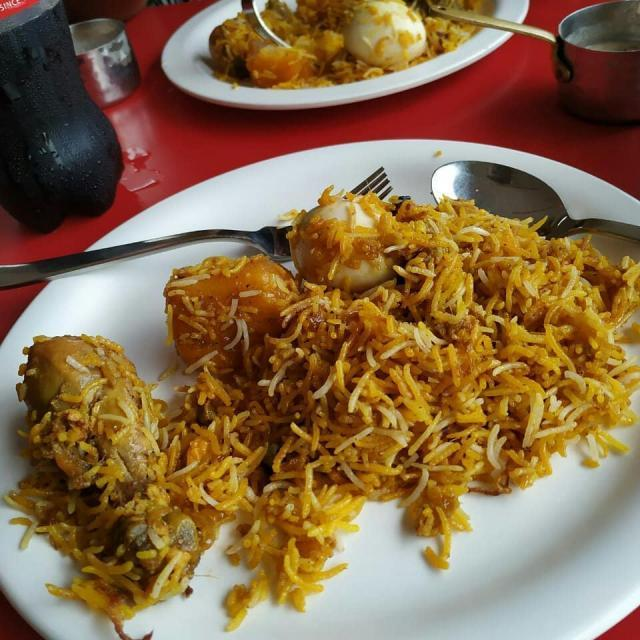biryani: (36, 183, 603, 599)
